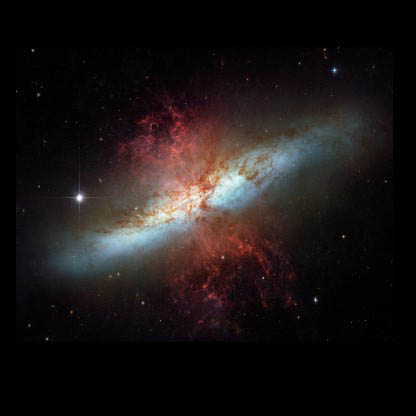Messier 82: (44, 85, 388, 312)
